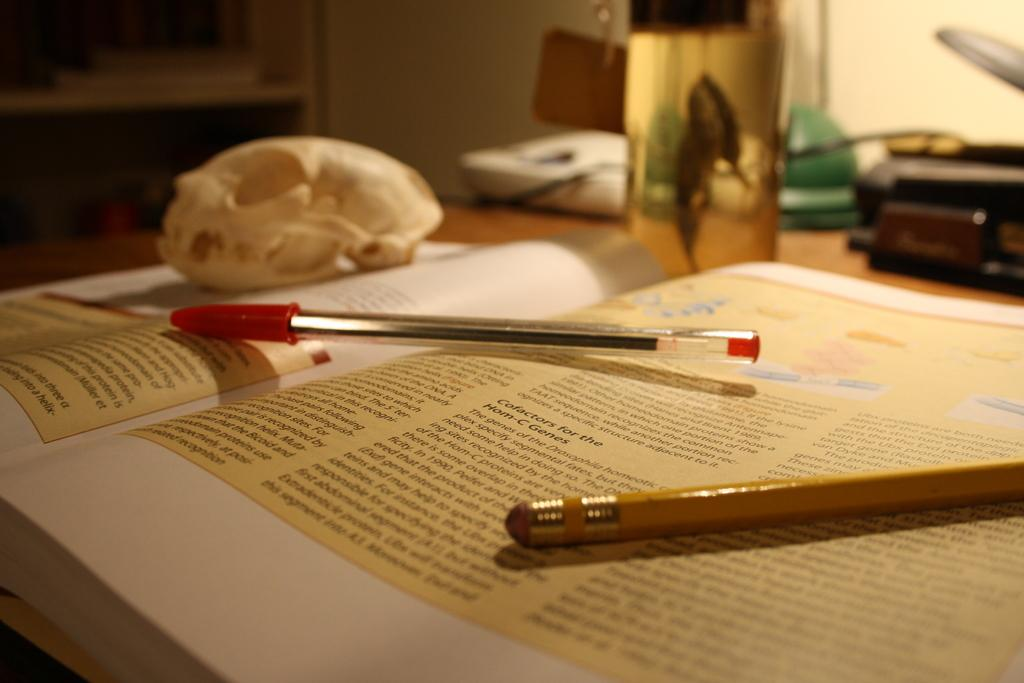pen: (168, 291, 766, 363)
